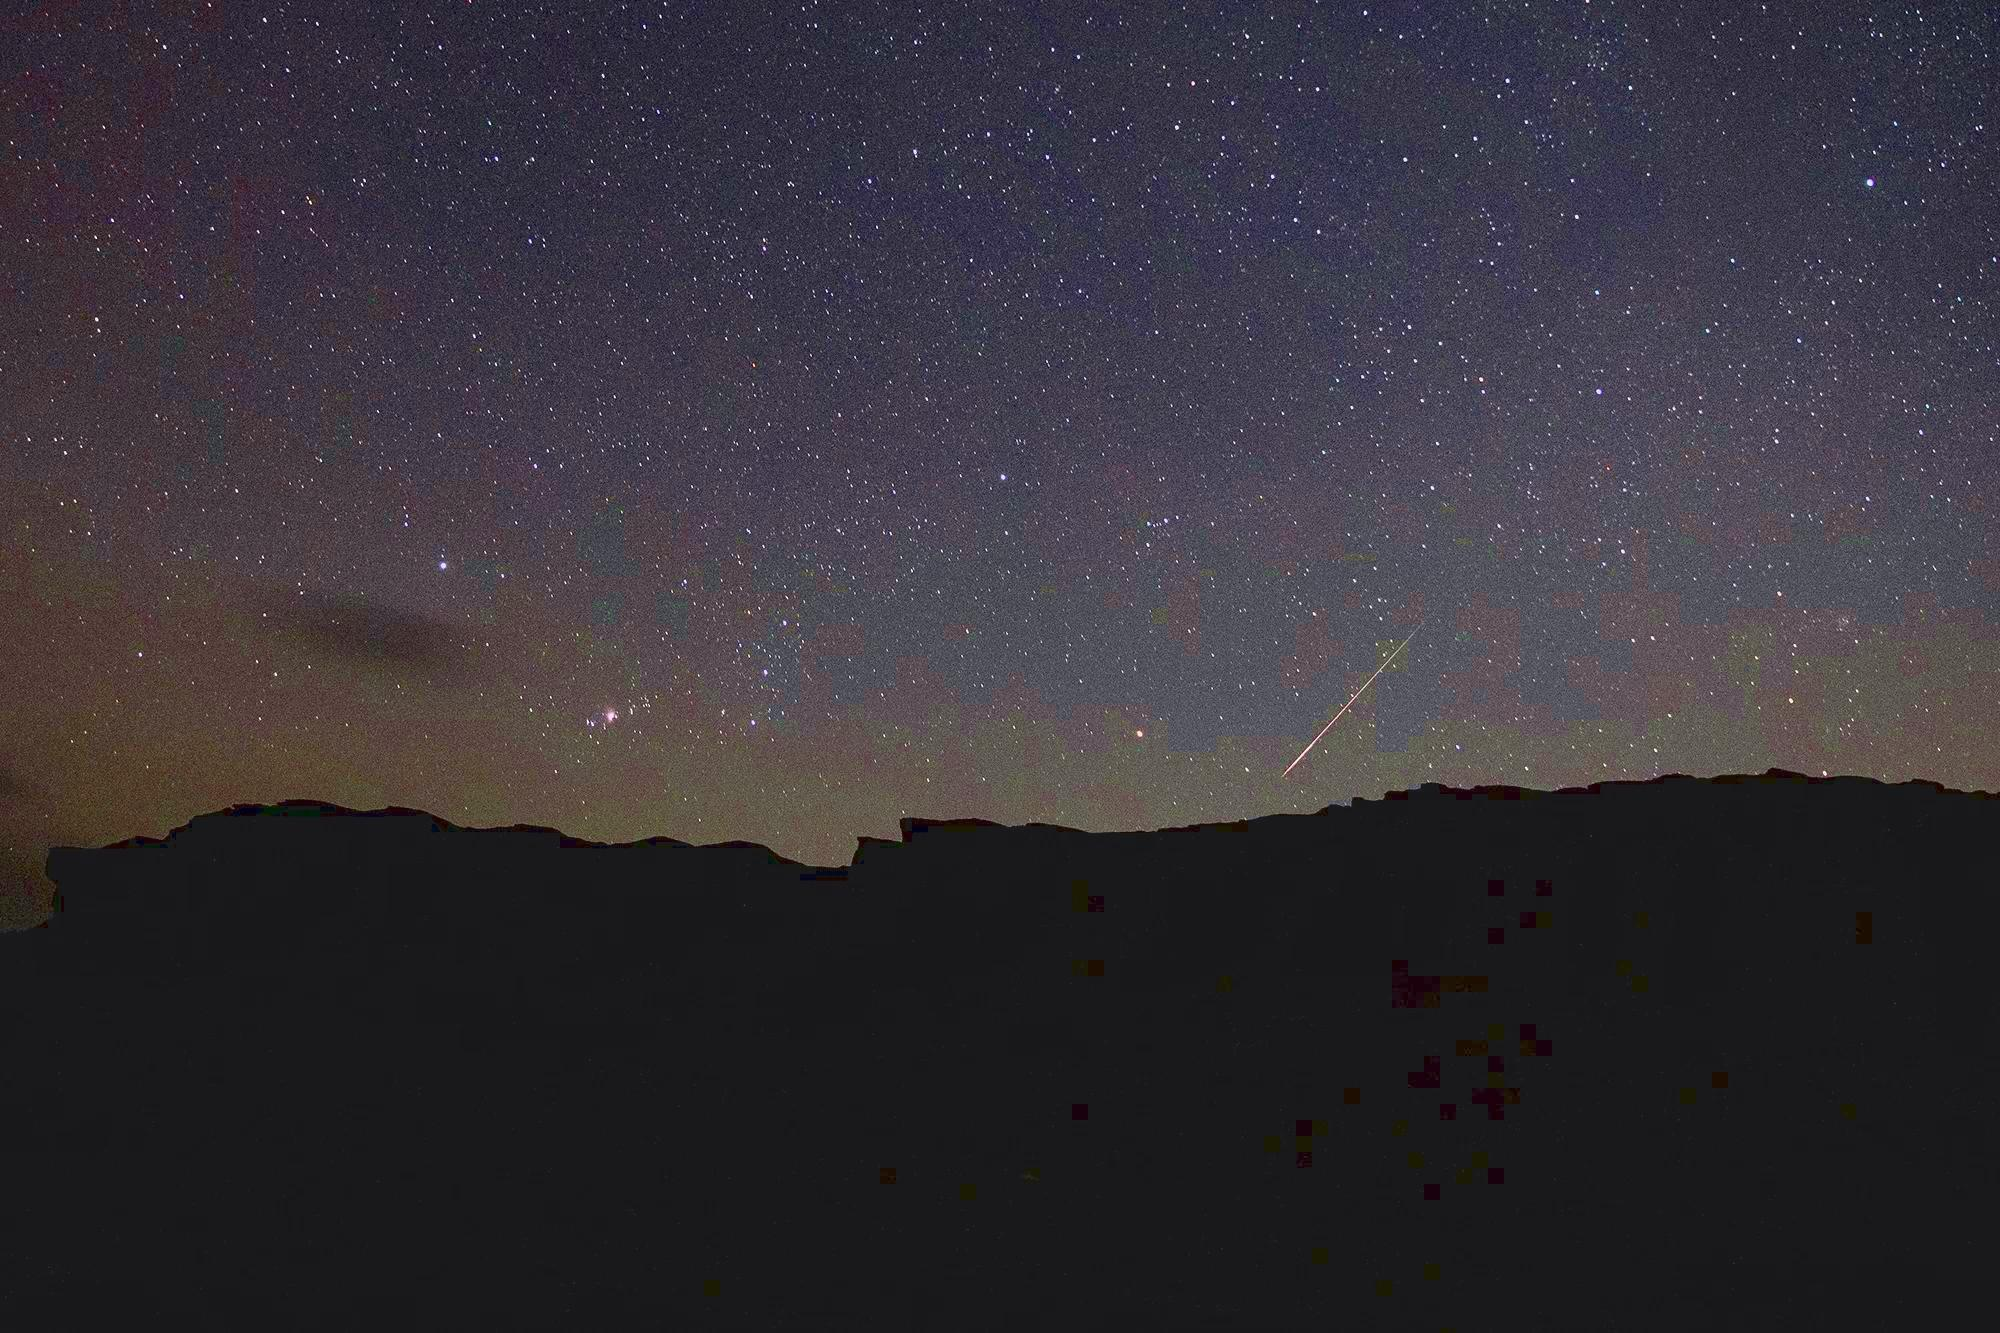meteorite: (1209, 519, 1523, 803)
